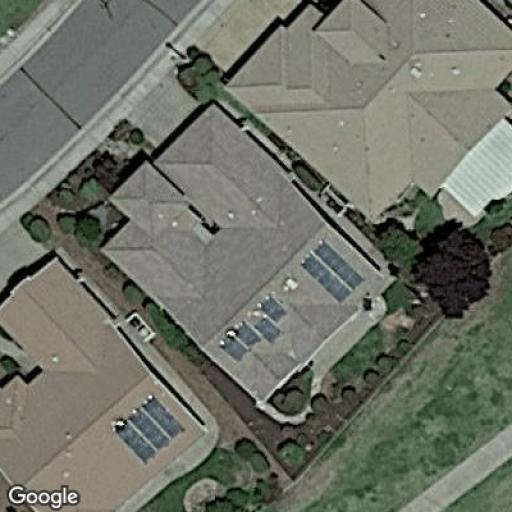solar-panel: (109, 394, 185, 464), (218, 294, 288, 364), (299, 238, 365, 309)
